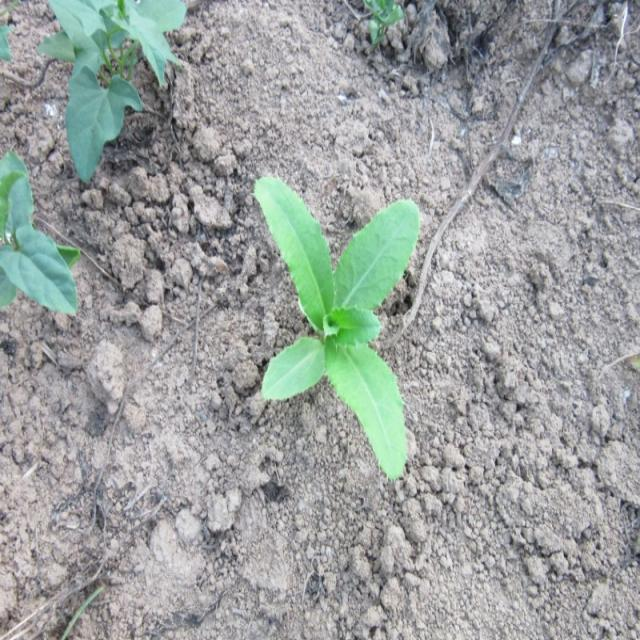cs: (251, 169, 426, 488)
